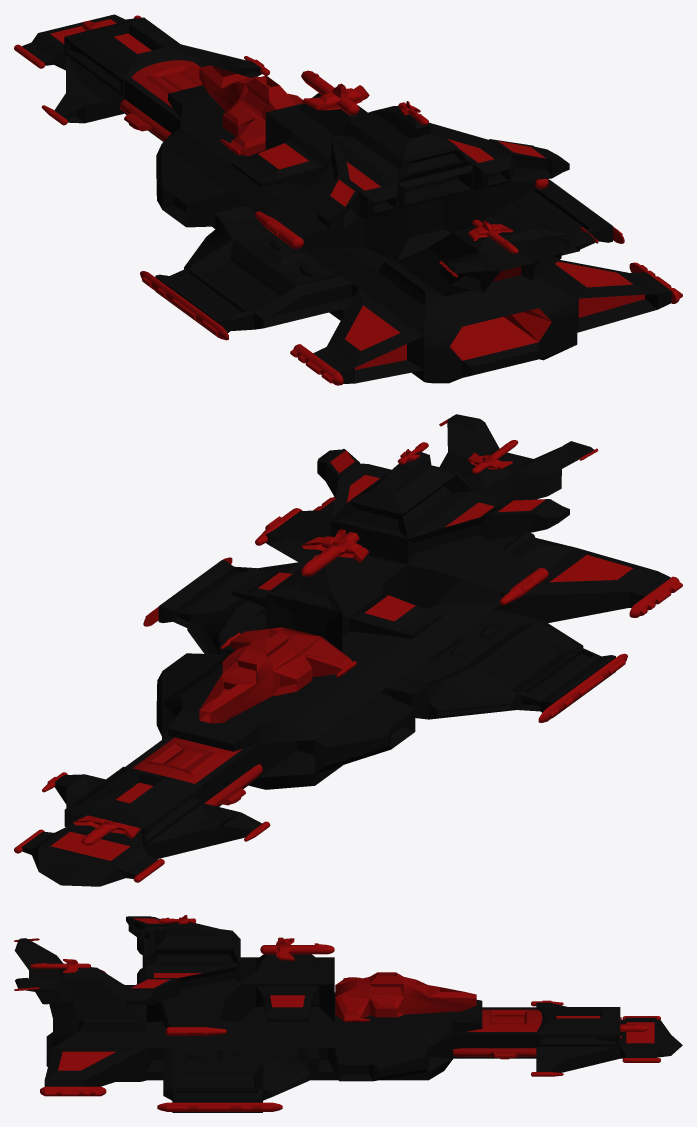
Rendered from quadWarship.obj.
3 views of the same model, one above another, from view 1: azimuth 30°, elevation 25°; view 2: azimuth 150°, elevation 25°; view 3: azimuth 270°, elevation 25° (orthographic). The views are drawn at different scales.
Visible parts, largest first — view 1: Box001_Mesh.242, Box005.001_Mesh.239, Box002.001_Mesh.216, Box004.001_Mesh.241, Cylinder005_Mesh.225, ChamferCyl001.001_Mesh.217, Cylinder010_Mesh.243, Cylinder002.001_Mesh.218, Cylinder006_Mesh.226, ChamferCyl011.001_Mesh.238, ChamferCyl003_Mesh.228; view 2: Box001_Mesh.242, Box005.001_Mesh.239, Box002.001_Mesh.216, Box004.001_Mesh.241, Cylinder005_Mesh.225, ChamferCyl001.001_Mesh.217, Cylinder010_Mesh.243, ChamferCyl012_Mesh.229, Cylinder006_Mesh.226, Cylinder002.001_Mesh.218, ChamferCyl011.001_Mesh.238; view 3: Box001_Mesh.242, Box004.001_Mesh.241, Box002.001_Mesh.216, Cylinder005_Mesh.225, Cylinder003_Mesh.240, ChamferCyl001.001_Mesh.217, Cylinder007_Mesh.227, Cylinder004_Mesh.223, ChamferCyl004_Mesh.215, ChamferCyl011.001_Mesh.238.
Part boxes in pixels (left/top/right/bottom): Box001_Mesh.242: left=22, top=14, right=671, bottom=383; Box005.001_Mesh.239: left=155, top=204, right=358, bottom=337; Box002.001_Mesh.216: left=199, top=65, right=303, bottom=156; Box004.001_Mesh.241: left=484, top=179, right=612, bottom=255; Cylinder005_Mesh.225: left=131, top=60, right=202, bottom=107; ChamferCyl001.001_Mesh.217: left=301, top=70, right=369, bottom=115; Cylinder010_Mesh.243: left=140, top=271, right=228, bottom=340; Cylinder002.001_Mesh.218: left=290, top=344, right=343, bottom=385; Cylinder006_Mesh.226: left=119, top=99, right=171, bottom=140; ChamferCyl011.001_Mesh.238: left=467, top=219, right=518, bottom=253; ChamferCyl003_Mesh.228: left=254, top=211, right=303, bottom=248; Box001_Mesh.242: left=21, top=414, right=670, bottom=886; Box005.001_Mesh.239: left=381, top=608, right=615, bottom=719; Box002.001_Mesh.216: left=199, top=627, right=352, bottom=723; Box004.001_Mesh.241: left=158, top=560, right=303, bottom=654; Cylinder005_Mesh.225: left=133, top=737, right=242, bottom=783; ChamferCyl001.001_Mesh.217: left=301, top=529, right=369, bottom=576; Cylinder010_Mesh.243: left=538, top=653, right=627, bottom=722; ChamferCyl012_Mesh.229: left=73, top=815, right=140, bottom=845; Cylinder006_Mesh.226: left=204, top=764, right=262, bottom=806; Cylinder002.001_Mesh.218: left=629, top=576, right=682, bottom=617; ChamferCyl011.001_Mesh.238: left=467, top=440, right=518, bottom=473; Box001_Mesh.242: left=14, top=916, right=682, bottom=1086; Box004.001_Mesh.241: left=163, top=1047, right=319, bottom=1112; Box002.001_Mesh.216: left=335, top=972, right=476, bottom=1019; Cylinder005_Mesh.225: left=466, top=1009, right=542, bottom=1031; Cylinder003_Mesh.240: left=157, top=1102, right=282, bottom=1111; ChamferCyl001.001_Mesh.217: left=260, top=937, right=334, bottom=960; Cylinder007_Mesh.227: left=453, top=1048, right=536, bottom=1059; Cylinder004_Mesh.223: left=40, top=1086, right=106, bottom=1096; ChamferCyl004_Mesh.215: left=165, top=1027, right=226, bottom=1035; ChamferCyl011.001_Mesh.238: left=30, top=959, right=90, bottom=973.
Size of the model in its own units: 2.54 by 1.23 by 5.06.
